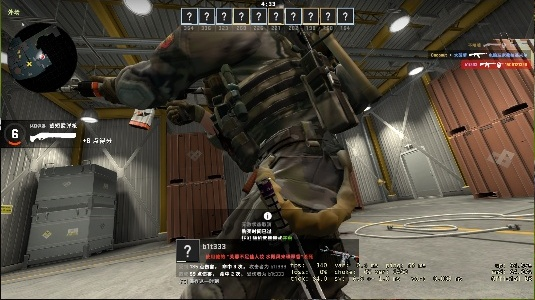body: (165, 7, 365, 300)
